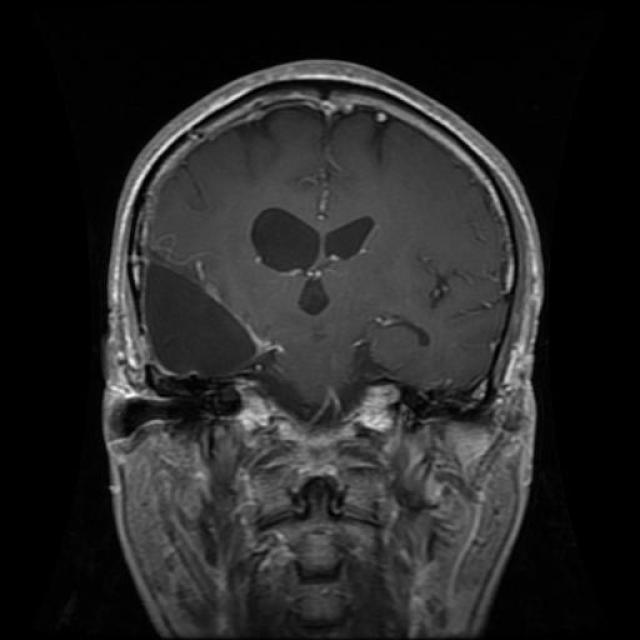glioma: (247, 202, 395, 312)
